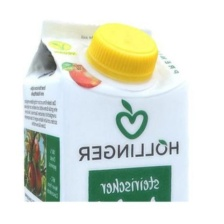carton: (16, 18, 190, 206)
